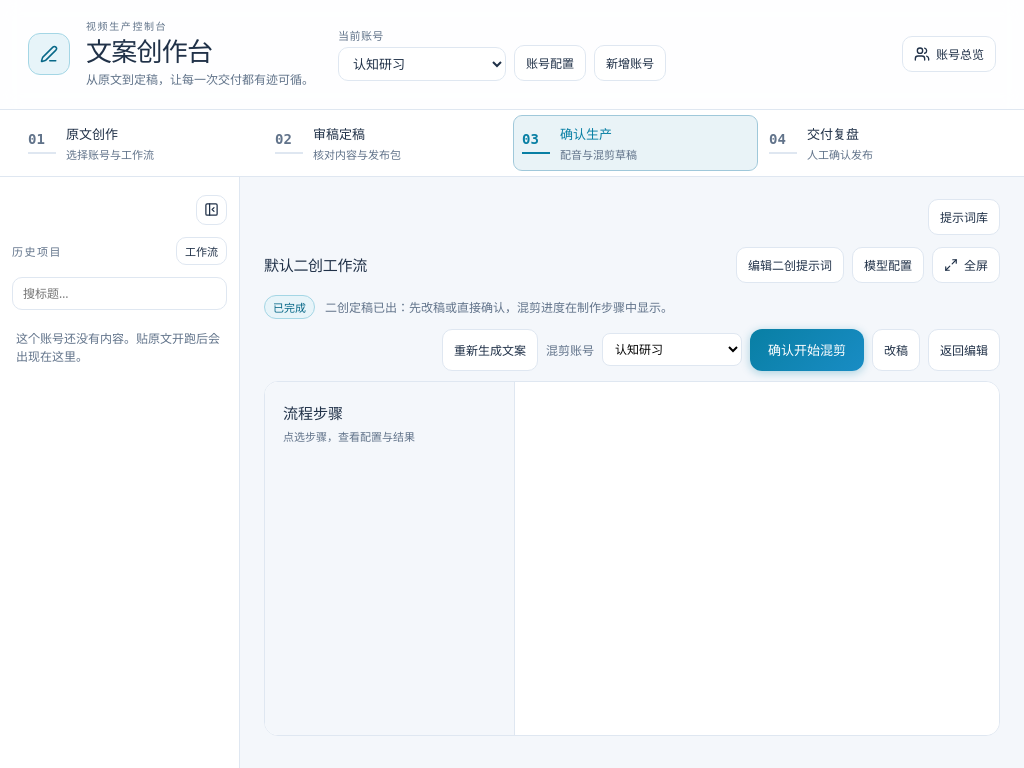
Test case: historical project aligns the account selector and switching accounts leaves its production gate
The width and height of the screenshot is (1024, 768).
Expected: the dropdown labelled "混剪账号" shows "认知研习", [602, 333, 742, 366]
Select "云中观局" in the dropdown named "切换账号工作流" at coordinates (422, 64), box [338, 47, 506, 81]
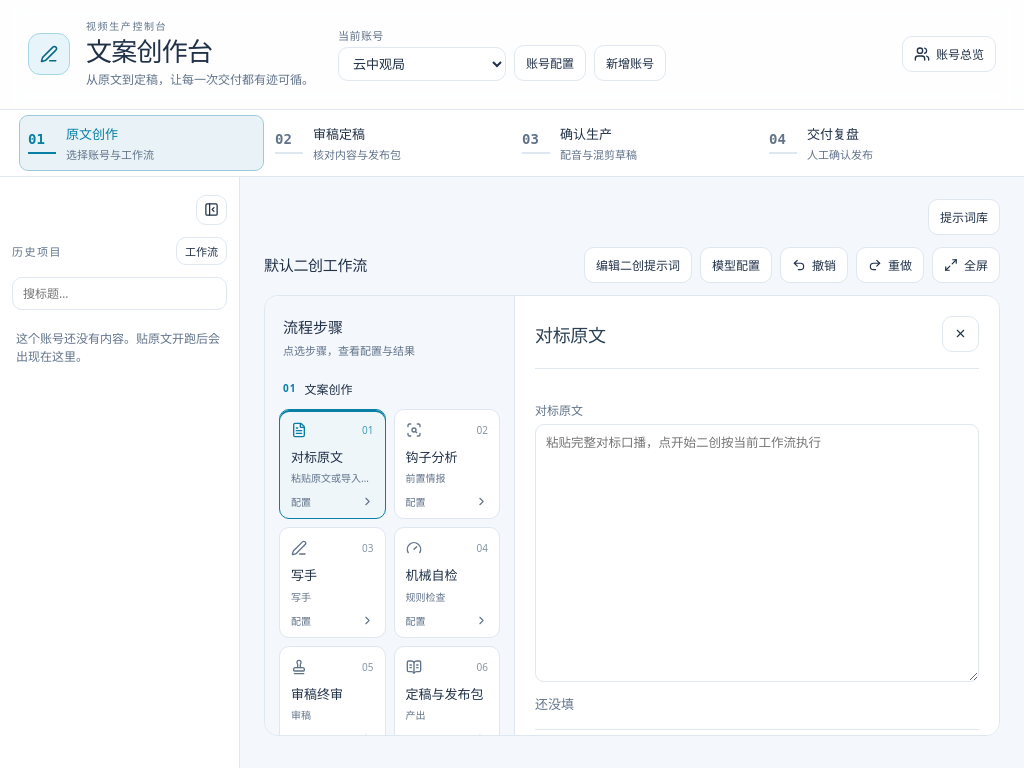
Now the button "确认开始混剪" is gone
